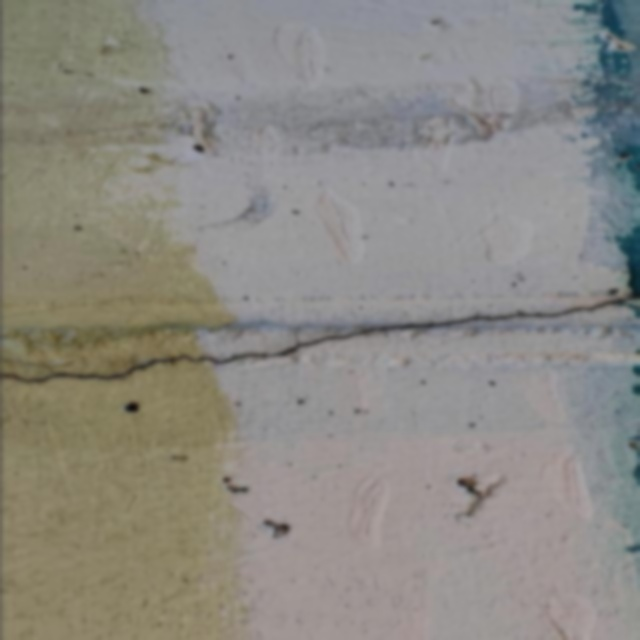SurfaceCrack: (1, 273, 640, 425)
